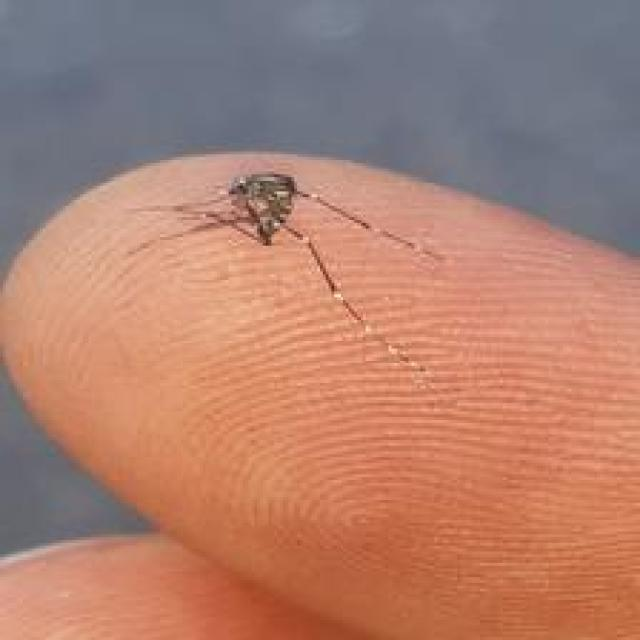Aedes albopictus: (127, 169, 447, 380)
